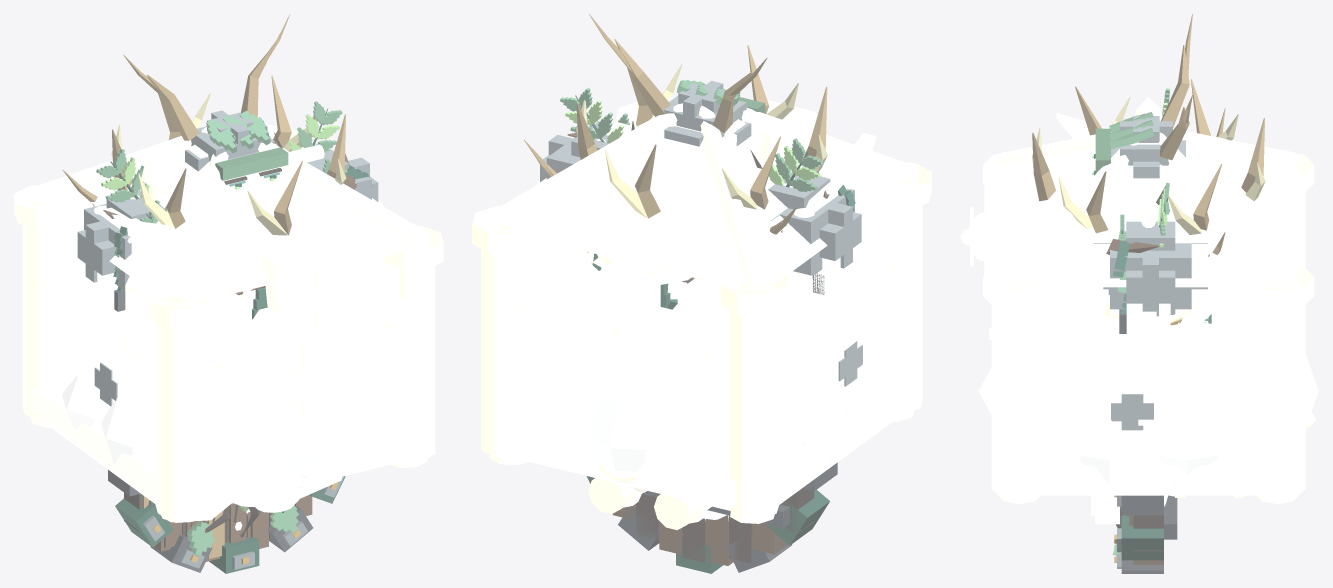
File: spell-models-knight.glb
3 views of the same model, side by side, from view 1: azimuth 30°, elevation 25°; view 2: azimuth 150°, elevation 25°; view 3: azimuth 270°, elevation 25° (orthographic). The views are drawn at different scales.
Visible parts, largest first — view 1: fx_fortress, fx_last-bastion, fx_adamant-guardian, fx_powerful-throw, fx_lord-of-battle, fx_shockwave, fx_rallying-cry, fx_bladestorm, fx_stalwart-company, fx_siegebreaker, fx_chainbreaker, fx_shattering-throw; view 2: fx_fortress, fx_last-bastion, fx_adamant-guardian, fx_powerful-throw, fx_shockwave, fx_lord-of-battle, fx_bladestorm, fx_siegebreaker, fx_rallying-cry, fx_steel-bulwark, fx_chainbreaker, fx_stalwart-company; view 3: fx_fortress, fx_last-bastion, fx_adamant-guardian, fx_lord-of-battle, fx_shockwave, fx_powerful-throw, fx_bladestorm, fx_cleave, fx_steel-bulwark, fx_shattering-throw, fx_rallying-cry.
Part boxes in pixels (box(x1,y1,x2,y2)): fx_fortress: box(14, 129, 443, 517); fx_last-bastion: box(26, 124, 431, 522); fx_adamant-guardian: box(77, 14, 378, 406); fx_powerful-throw: box(108, 470, 345, 573); fx_lord-of-battle: box(111, 75, 346, 319); fx_shockwave: box(62, 375, 334, 471); fx_rallying-cry: box(141, 144, 324, 201); fx_bladestorm: box(85, 168, 341, 303); fx_stalwart-company: box(110, 307, 324, 420); fx_siegebreaker: box(234, 486, 305, 512); fx_chainbreaker: box(80, 310, 101, 362); fx_shattering-throw: box(155, 477, 342, 522); fx_fortress: box(472, 102, 931, 518); fx_last-bastion: box(485, 96, 918, 523); fx_adamant-guardian: box(540, 14, 862, 386); fx_powerful-throw: box(586, 462, 837, 573); fx_shockwave: box(588, 359, 880, 483); fx_lord-of-battle: box(576, 45, 827, 308); fx_bladestorm: box(592, 133, 876, 285); fx_siegebreaker: box(588, 478, 711, 529); fx_rallying-cry: box(606, 119, 792, 169); fx_steel-bulwark: box(858, 213, 875, 368); fx_chainbreaker: box(838, 296, 860, 351); fx_stalwart-company: box(580, 255, 870, 341); fx_fortress: box(983, 153, 1314, 498); fx_last-bastion: box(960, 128, 1299, 504); fx_adamant-guardian: box(1092, 14, 1207, 430); fx_lord-of-battle: box(1032, 79, 1265, 323); fx_shockwave: box(978, 354, 1318, 491); fx_powerful-throw: box(1112, 495, 1177, 573); fx_bladestorm: box(1038, 112, 1276, 323); fx_cleave: box(1137, 311, 1156, 392); fx_steel-bulwark: box(1038, 287, 1109, 374); fx_shattering-throw: box(1091, 495, 1119, 524); fx_rallying-cry: box(1135, 96, 1162, 227).
Size of the model in its own units: 2.32 by 3.81 by 2.44.
